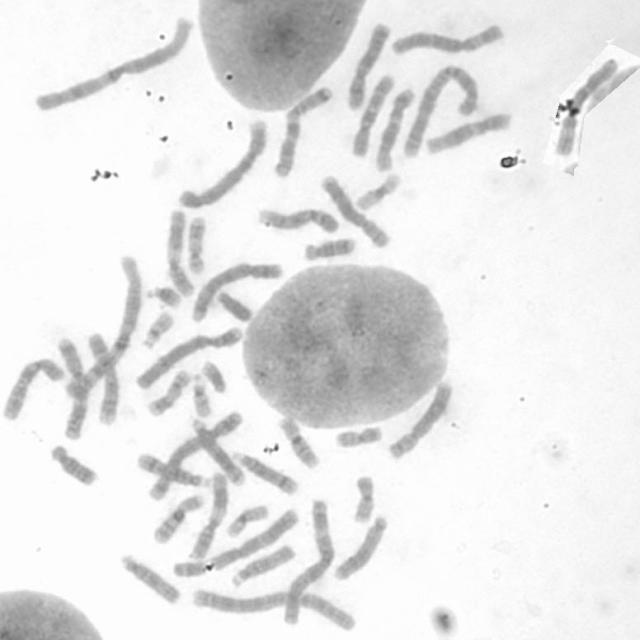A1: (28, 12, 196, 115), (59, 250, 144, 404)
A2: (186, 584, 359, 632), (400, 60, 480, 159)
A3: (168, 505, 298, 577), (278, 494, 336, 628)
B4: (175, 115, 270, 210), (130, 322, 246, 393)
B5: (144, 406, 244, 501), (187, 258, 283, 318)
C10: (0, 355, 66, 421), (347, 71, 395, 159)
C11: (184, 468, 231, 562), (163, 203, 197, 300)
C12: (422, 109, 514, 157), (372, 84, 416, 174)
C6: (552, 54, 621, 158), (388, 20, 507, 57)
C7: (270, 82, 335, 179), (53, 333, 91, 442)
C8: (318, 172, 392, 250), (385, 378, 454, 461)
C9: (84, 330, 121, 426), (256, 204, 340, 235)
D13: (329, 515, 397, 581), (188, 414, 243, 486)
D14: (227, 447, 299, 497), (132, 450, 210, 490)
D15: (116, 549, 182, 607), (227, 541, 297, 589)
E16: (149, 492, 206, 546), (275, 414, 320, 470)
E17: (144, 366, 192, 417), (184, 212, 209, 274)
E18: (46, 441, 100, 487), (300, 235, 357, 262)
F19: (352, 169, 402, 213), (223, 501, 270, 539)
F20: (350, 472, 376, 524), (332, 423, 383, 449)
G21: (199, 357, 229, 395), (144, 283, 182, 310)
G22: (138, 308, 175, 349), (190, 374, 213, 418)
X: (339, 18, 392, 112)
Y: (213, 286, 255, 324)
